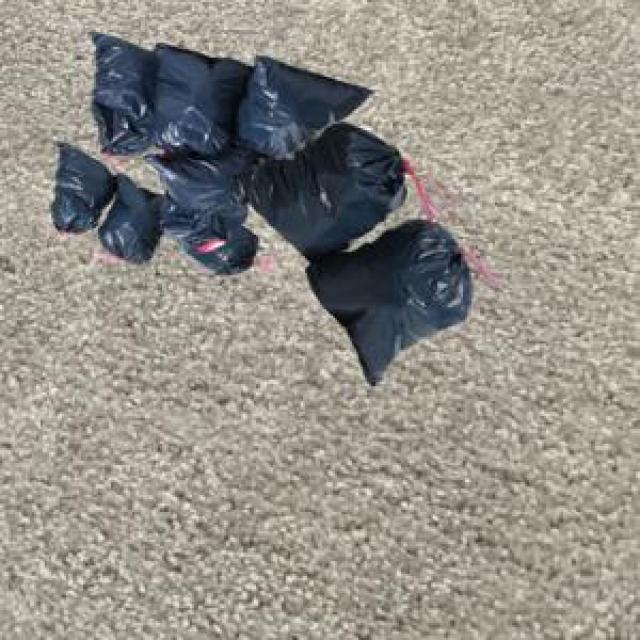waste: (55, 34, 472, 383)
